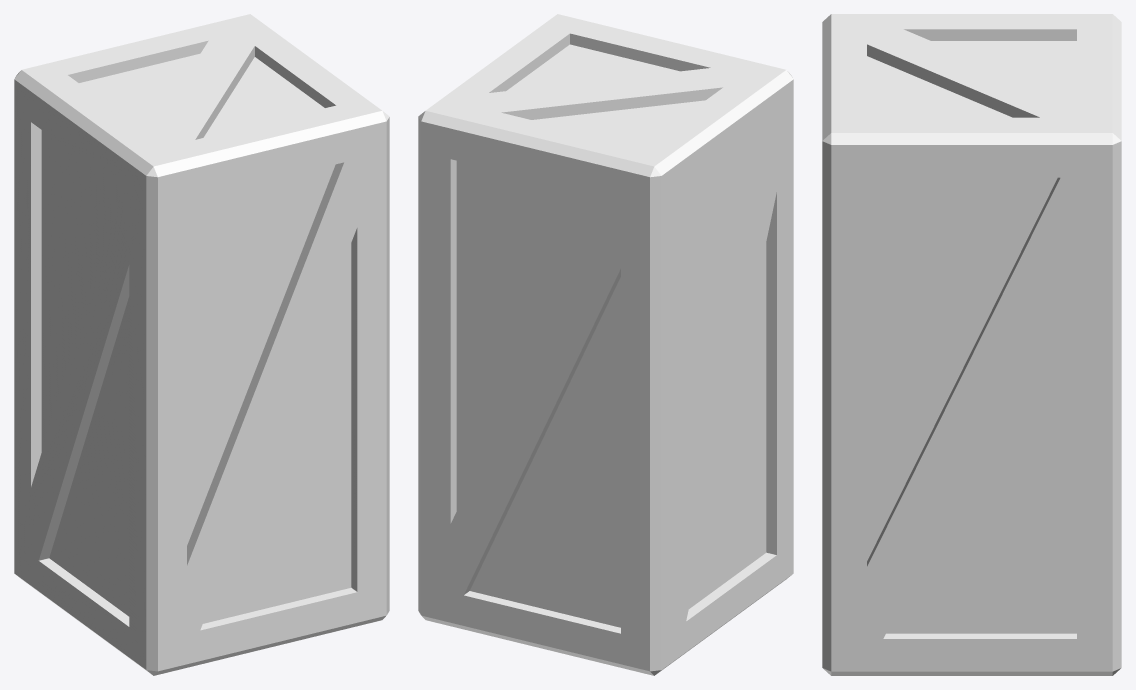
File: BoxL.fbx
The picture shows the model from 3 angles, left to right: view 1: azimuth 30°, elevation 25°; view 2: azimuth 150°, elevation 25°; view 3: azimuth 270°, elevation 25°; orthographic projection. The views are drawn at different scales.
Visible parts, largest first — view 1: BoxL; view 2: BoxL; view 3: BoxL.
Boxes of the visible parts, left/top/right/bottom form: BoxL: left=14, top=14, right=389, bottom=675; BoxL: left=418, top=14, right=793, bottom=675; BoxL: left=822, top=14, right=1121, bottom=675.
Bounding box in the file's own units: 1 × 2 × 1.
